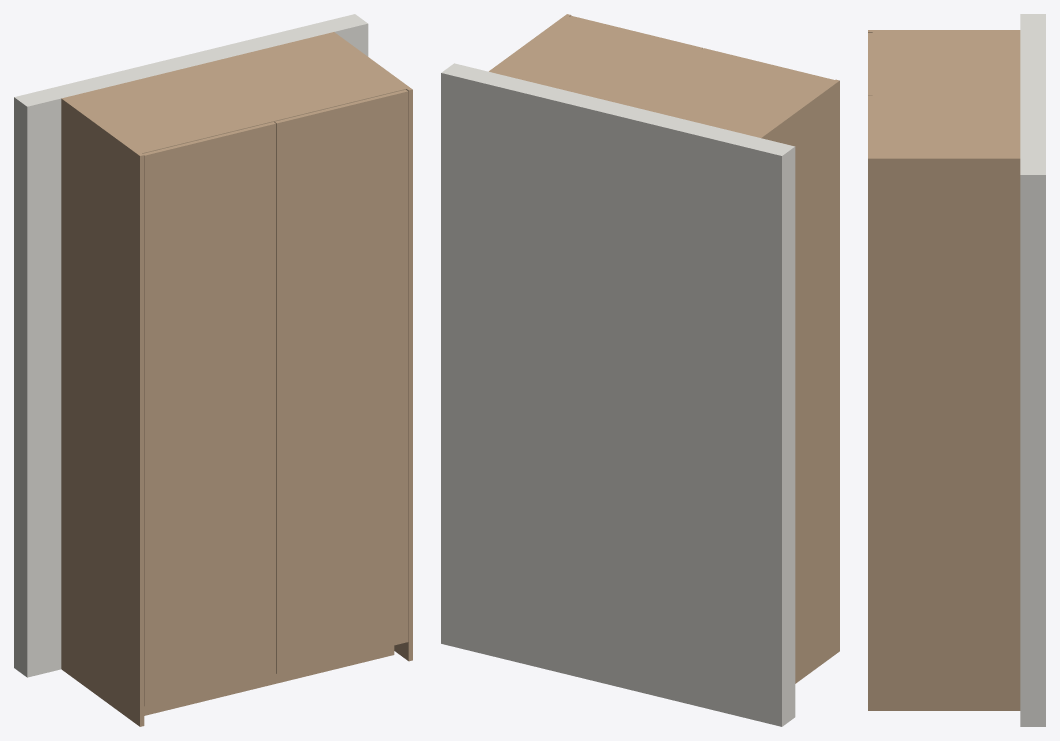
3 renders of one model, left to right at view 1: azimuth 30°, elevation 25°; view 2: azimuth 150°, elevation 25°; view 3: azimuth 270°, elevation 25°, orthographic. The views are drawn at different scales.
Parts seen in each view (by area): view 1: Unit 1: Door, right, Unit 1: Door, left, End panel, left, Room: Back wall, Unit 1: Top, End panel, right, Unit 1: Plinth; view 2: Room: Back wall, End panel, left, Unit 1: Top; view 3: End panel, right, Room: Back wall, Unit 1: Top, Unit 1: Door, left, End panel, left, Unit 1: Door, right.
Boxes of the visible parts, x1=… form: Unit 1: Door, right: x1=274, y1=89, x2=408, y2=673; Unit 1: Door, left: x1=143, y1=122, x2=275, y2=706; End panel, left: x1=61, y1=97, x2=144, y2=726; Room: Back wall: x1=14, y1=14, x2=368, y2=677; Unit 1: Top: x1=70, y1=34, x2=402, y2=152; End panel, right: x1=330, y1=32, x2=412, y2=661; Unit 1: Plinth: x1=144, y1=645, x2=394, y2=715; Room: Back wall: x1=441, y1=63, x2=795, y2=726; End panel, left: x1=757, y1=79, x2=839, y2=683; Unit 1: Top: x1=497, y1=18, x2=828, y2=135; End panel, right: x1=868, y1=157, x2=1020, y2=710; Room: Back wall: x1=1020, y1=14, x2=1045, y2=726; Unit 1: Top: x1=872, y1=34, x2=1020, y2=154; Unit 1: Door, left: x1=868, y1=33, x2=872, y2=95; End panel, left: x1=868, y1=30, x2=1020, y2=32; Unit 1: Door, right: x1=868, y1=95, x2=872, y2=156.
Size of the model in its own units: 1.5 by 2.4 by 0.7.
